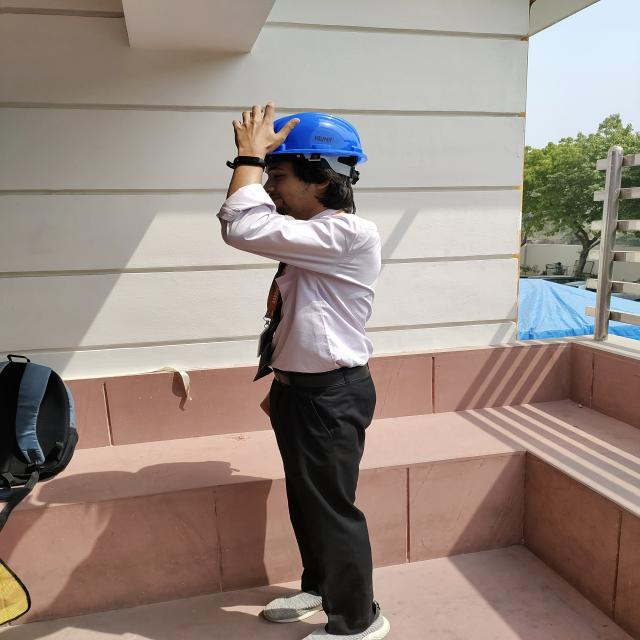no jacket: (230, 112, 393, 640)
